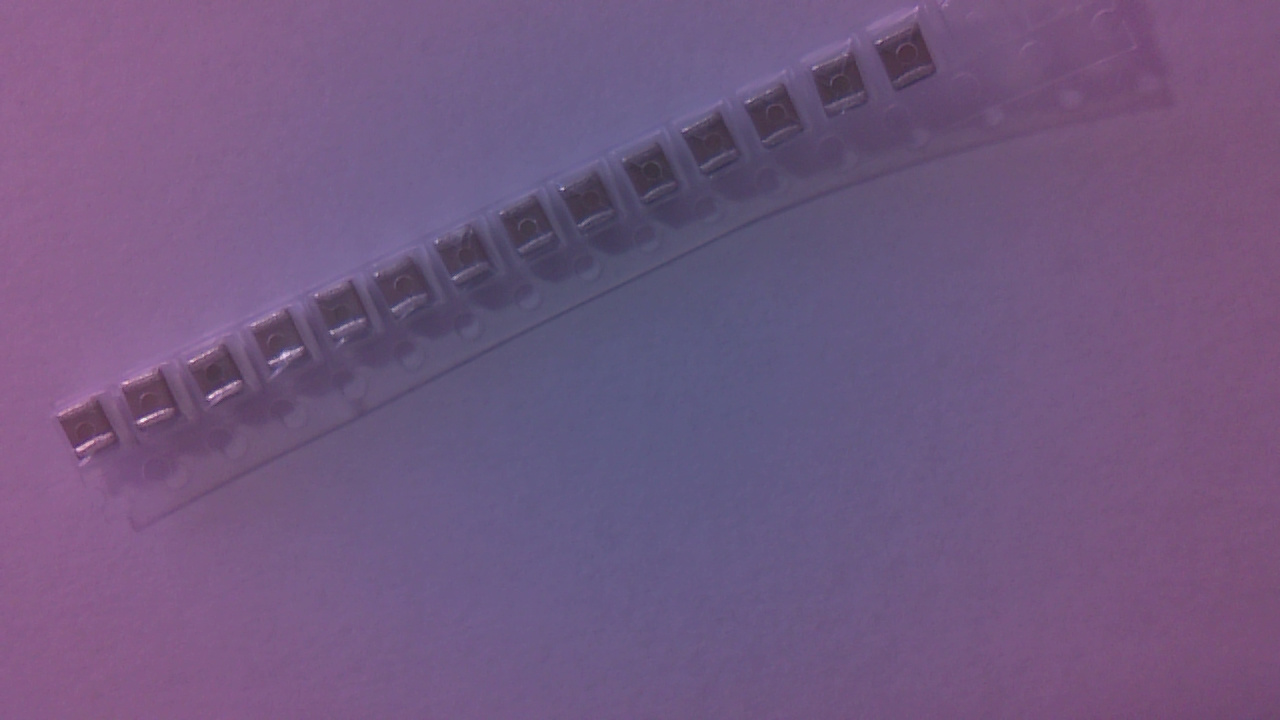Condensator: (250, 310, 317, 376), (58, 399, 123, 464), (748, 83, 809, 151), (314, 282, 375, 348), (377, 257, 438, 322), (623, 146, 685, 209), (438, 226, 497, 292), (502, 200, 564, 262), (122, 371, 184, 433), (687, 114, 746, 178), (881, 29, 939, 92), (564, 173, 619, 238), (817, 56, 872, 120), (193, 351, 251, 408)
